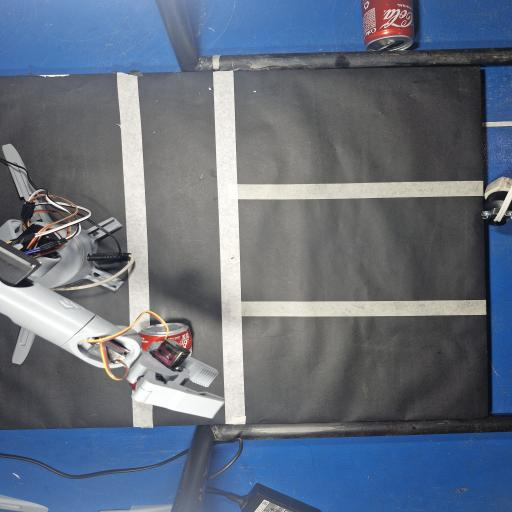lata_defectuoso: (139, 324, 165, 350), (167, 323, 192, 350)
